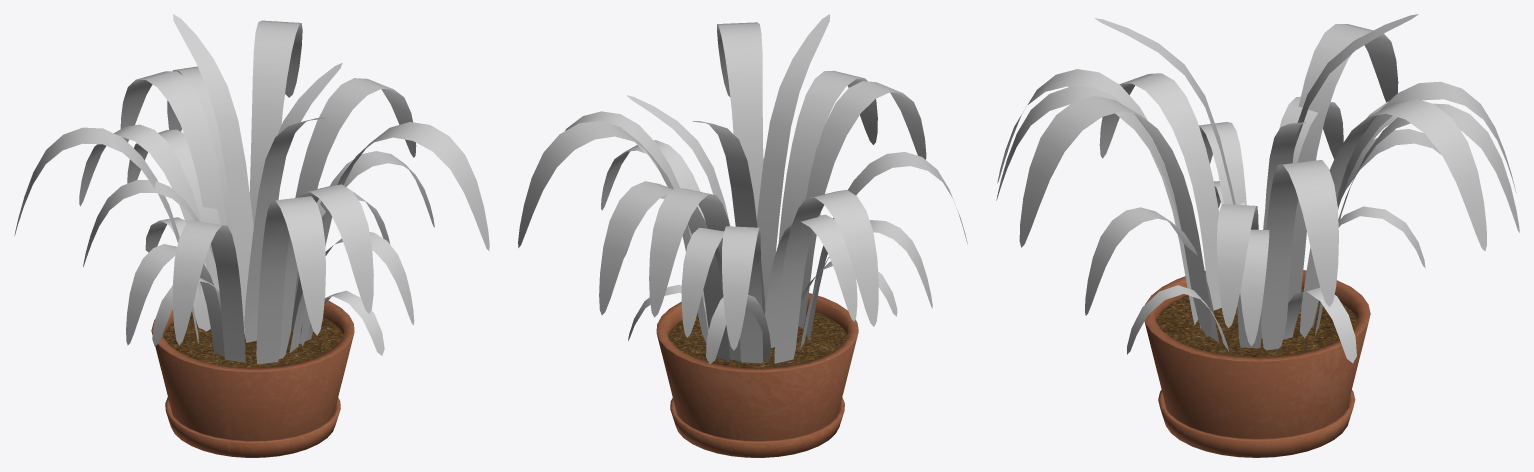
File: SM_PlantChlorophytum.fbx
3 views of the same model, side by side, from view 1: azimuth 30°, elevation 25°; view 2: azimuth 150°, elevation 25°; view 3: azimuth 270°, elevation 25° (orthographic). The views are drawn at different scales.
Visible parts, largest first — view 1: SM_PlantChlorophytum_LOD0; view 2: SM_PlantChlorophytum_LOD0; view 3: SM_PlantChlorophytum_LOD0.
Part boxes in pixels (bbox=[...]): SM_PlantChlorophytum_LOD0: bbox=[14, 14, 489, 457]; SM_PlantChlorophytum_LOD0: bbox=[518, 14, 967, 457]; SM_PlantChlorophytum_LOD0: bbox=[996, 14, 1519, 457].
Bounding box in the file's own units: 83.37 × 90.69 × 76.84.
